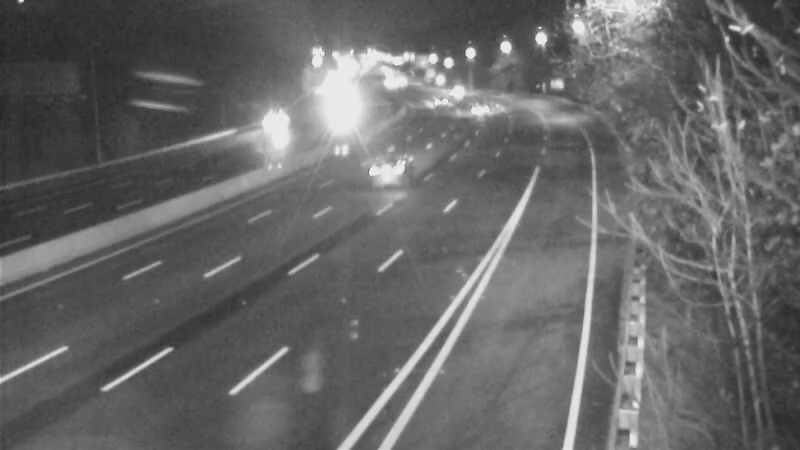vehicle: (341, 132, 421, 212), (435, 67, 485, 117), (415, 77, 465, 127), (448, 86, 498, 136), (247, 104, 297, 154), (319, 86, 369, 136)
